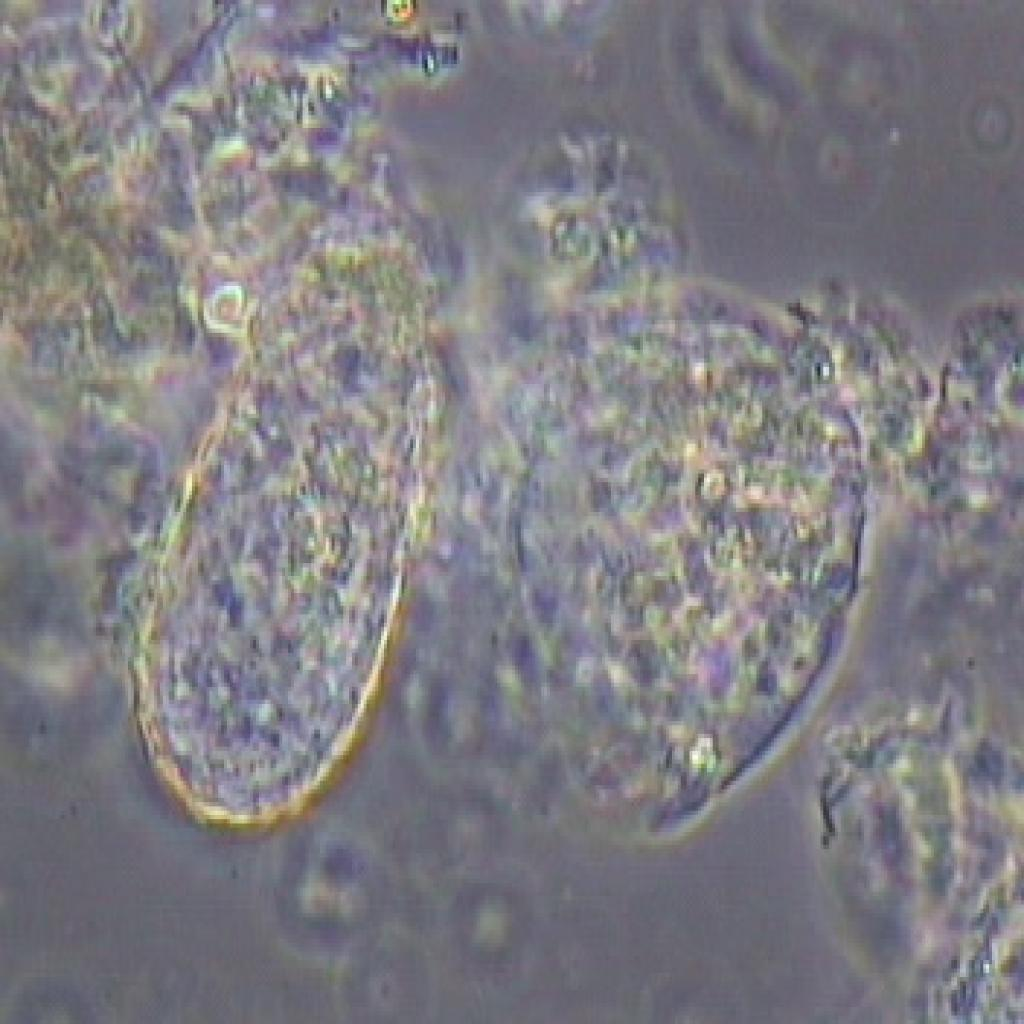Euglypha: (109, 252, 444, 836)
